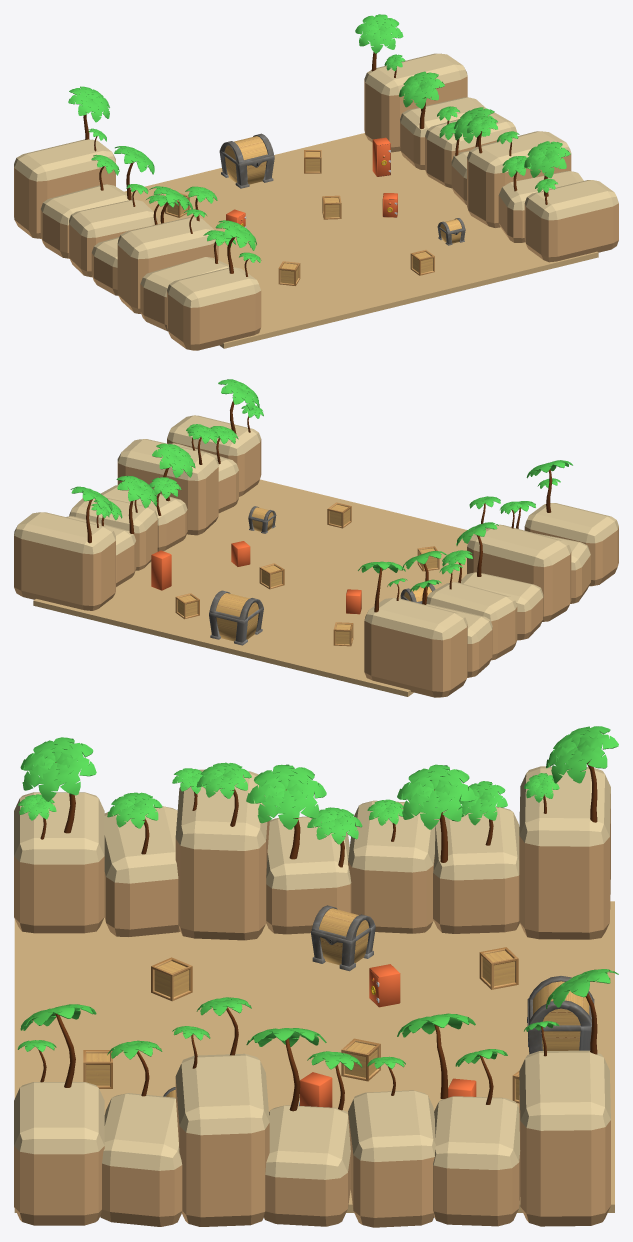
File: beach stage.fbx
3 renders of one model, top to bottom at view 1: azimuth 30°, elevation 25°; view 2: azimuth 150°, elevation 25°; view 3: azimuth 270°, elevation 25°, orthographic. The views are drawn at different scales.
Visible parts, largest first — view 1: Cube, Cube.013, Cube.007, Circle.001, Sphere.016, Sphere.017, Sphere.013, Sphere.005, Sphere.003, Cube.020, Sphere.006, Sphere.015 (+7 smaller); view 2: Cube, Cube.013, Cube.007, Circle.001, Sphere.015, Sphere.017, Sphere.013, Cube.020, Circle.002, Sphere.016, Sphere.004, Cube.008 (+8 smaller); view 3: Cube.007, Cube.013, Cube, Circle.001, Sphere.004, Sphere.006, Sphere.003, Circle.003, Sphere.005, Cube.004, Sphere.007, Sphere.001 (+17 smaller).
Part boxes in pixels (<box>): Cube: <box>124,133,598,348</box>; Cube.013: <box>14,139,261,350</box>; Cube.007: <box>364,53,618,262</box>; Circle.001: <box>219,133,274,188</box>; Sphere.016: <box>355,14,403,71</box>; Sphere.017: <box>399,71,444,128</box>; Sphere.013: <box>524,141,570,196</box>; Sphere.005: <box>68,86,109,139</box>; Sphere.003: <box>215,220,257,273</box>; Cube.020: <box>372,137,390,176</box>; Sphere.006: <box>114,146,154,200</box>; Sphere.015: <box>454,107,496,147</box>; Cube: <box>33,479,474,696</box>; Cube.013: <box>364,503,618,697</box>; Cube.007: <box>14,415,261,610</box>; Circle.001: <box>209,590,263,645</box>; Sphere.015: <box>152,443,195,501</box>; Sphere.017: <box>116,475,157,533</box>; Sphere.013: <box>218,379,259,433</box>; Cube.020: <box>151,550,171,590</box>; Circle.002: <box>248,506,276,533</box>; Sphere.016: <box>70,486,112,543</box>; Sphere.004: <box>456,522,498,576</box>; Cube.008: <box>259,563,284,589</box>; Cube.007: <box>14,1050,610,1227</box>; Cube.013: <box>14,766,610,940</box>; Cube: <box>14,901,614,1212</box>; Circle.001: <box>527,976,594,1054</box>; Sphere.004: <box>246,764,326,859</box>; Sphere.006: <box>397,764,475,862</box>; Sphere.003: <box>20,737,96,833</box>; Circle.003: <box>311,905,375,971</box>; Sphere.005: <box>546,726,618,822</box>; Cube.004: <box>151,957,192,1001</box>; Sphere.007: <box>196,762,251,826</box>; Sphere.001: <box>107,792,162,854</box>.
Size of the model in its own units: 53.12 by 14.33 by 38.14.
